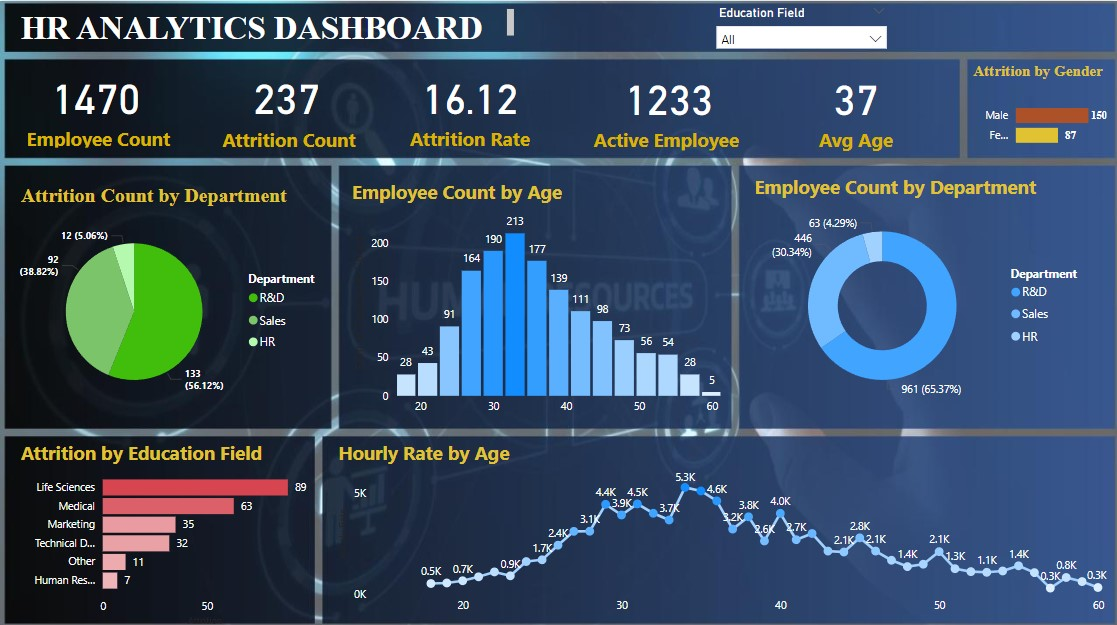

This screenshot's page, from the dashboard's own definition file:
{"tool":"powerbi","page":{"name":"Page 1","canvas":[1280,720],"ordinal":0},"visuals":[{"type":"card","fields":{"Values":["Sum(HR Data xlsx - HR data.Employee Count)"]},"box":[0,70.4,219.2,102.4],"z":0},{"type":"card","fields":{"Values":["Sum(HR Data xlsx - HR data.Attrition Count)"]},"box":[219.2,68.8,217.6,107.2],"z":1000},{"type":"card","fields":{"Values":["HR Data xlsx - HR data.Measure"]},"box":[656,70.4,217.6,105.6],"z":2000},{"type":"card","fields":{"Values":["HR Data xlsx - HR data.percentage"]},"box":[436.8,70.4,200,104],"z":3000},{"type":"card","fields":{"Values":["Avg(HR Data xlsx - HR data.Age)"]},"box":[874,68,208,108],"z":4000},{"type":"slicer","fields":{"Values":["HR Data xlsx - HR data.Education Field"]},"box":[808,0,214.4,54.4],"z":5000},{"type":"textbox","box":[18,4,574,46],"z":6000},{"type":"barChart","fields":{"Category":["HR Data xlsx - HR data.Gender"],"Y":["Sum(HR Data xlsx - HR data.Attrition Count)"]},"box":[1107.1,70,162.9,118.6],"z":7000},{"type":"pieChart","fields":{"Category":["HR Data xlsx - HR data.Department"],"Y":["Sum(HR Data xlsx - HR data.Attrition Count)"]},"box":[18.6,210,362.9,265.7],"z":8000},{"type":"clusteredColumnChart","title":" Employee Count by Age ","fields":{"Category":["HR Data xlsx - HR data.Age (bins)"],"Y":["Sum(HR Data xlsx - HR data.Employee Count)"]},"box":[397.1,202.9,431.4,278.6],"z":9000},{"type":"donutChart","fields":{"Category":["HR Data xlsx - HR data.Department"],"Y":["Sum(HR Data xlsx - HR data.Employee Count)"]},"box":[857.1,197.1,395.7,278.6],"z":10000},{"type":"barChart","fields":{"Category":["HR Data xlsx - HR data.Education Field"],"Y":["Sum(HR Data xlsx - HR data.Attrition Count)"]},"box":[18,502,344,218],"z":11000},{"type":"lineChart","fields":{"Category":["HR Data xlsx - HR data.Age"],"Y":["Sum(HR Data xlsx - HR data.Hourly Rate)"]},"box":[381.4,501.4,888.6,207.1],"z":12000}]}

Visuals, with their boxes in screenshot pixels (x1, y1, x2, y2), scaled from the page's 1280x720 canvas onto the 1117x625 screenshot:
card - Sum(HR Data xlsx - HR data.Employee Count): (x1=0, y1=61, x2=191, y2=150)
card - Sum(HR Data xlsx - HR data.Attrition Count): (x1=191, y1=60, x2=381, y2=153)
card - HR Data xlsx - HR data.Measure: (x1=572, y1=61, x2=762, y2=153)
card - HR Data xlsx - HR data.percentage: (x1=381, y1=61, x2=556, y2=151)
card - Avg(HR Data xlsx - HR data.Age): (x1=763, y1=59, x2=944, y2=153)
slicer - HR Data xlsx - HR data.Education Field: (x1=705, y1=0, x2=892, y2=47)
textbox: (x1=16, y1=3, x2=517, y2=43)
barChart - HR Data xlsx - HR data.Gender x Sum(HR Data xlsx - HR data.Attrition Count): (x1=966, y1=61, x2=1108, y2=164)
pieChart - HR Data xlsx - HR data.Department x Sum(HR Data xlsx - HR data.Attrition Count): (x1=16, y1=182, x2=333, y2=413)
" Employee Count by Age " clusteredColumnChart: (x1=347, y1=176, x2=723, y2=418)
donutChart - HR Data xlsx - HR data.Department x Sum(HR Data xlsx - HR data.Employee Count): (x1=748, y1=171, x2=1093, y2=413)
barChart - HR Data xlsx - HR data.Education Field x Sum(HR Data xlsx - HR data.Attrition Count): (x1=16, y1=436, x2=316, y2=624)
lineChart - HR Data xlsx - HR data.Age x Sum(HR Data xlsx - HR data.Hourly Rate): (x1=333, y1=435, x2=1108, y2=615)
